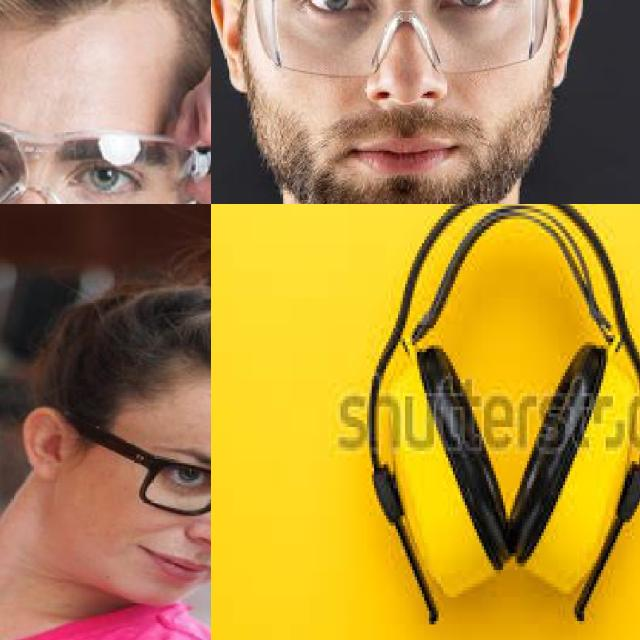Ear-protection: (510, 335, 637, 594), (381, 339, 508, 597)
No_Ear-Protection: (14, 398, 81, 486)
face_nomask: (289, 0, 512, 193), (123, 433, 211, 596), (0, 123, 149, 204)
glasses: (231, 0, 558, 78), (0, 98, 211, 204), (69, 411, 211, 532)
head_nohelmet: (89, 222, 211, 424), (0, 0, 211, 52)
person: (0, 228, 211, 640)
